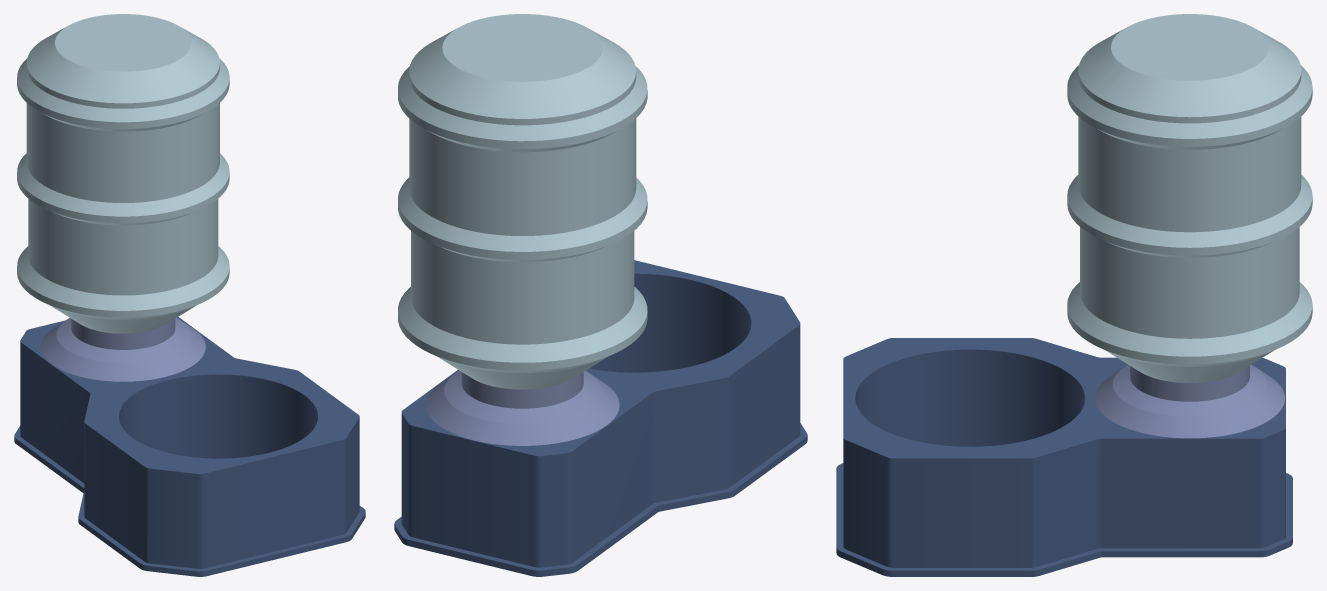
3 renders of one model, left to right at view 1: azimuth 30°, elevation 25°; view 2: azimuth 150°, elevation 25°; view 3: azimuth 270°, elevation 25°, orthographic. The views are drawn at different scales.
Visible parts, largest first — view 1: base, reservoir, seat; view 2: reservoir, base, seat; view 3: base, reservoir, seat.
Boxes of the visible parts, left/top/right/bottom form: base: left=14, top=317, right=365, bottom=576; reservoir: left=17, top=14, right=229, bottom=333; seat: left=41, top=318, right=205, bottom=381; reservoir: left=398, top=14, right=647, bottom=389; base: left=394, top=260, right=807, bottom=576; seat: left=426, top=371, right=619, bottom=445; base: left=836, top=338, right=1292, bottom=576; reservoir: left=1067, top=14, right=1312, bottom=382; seat: left=1094, top=364, right=1284, bottom=438.
Size of the model in its own units: 0.174 by 0.3 by 0.2775.
